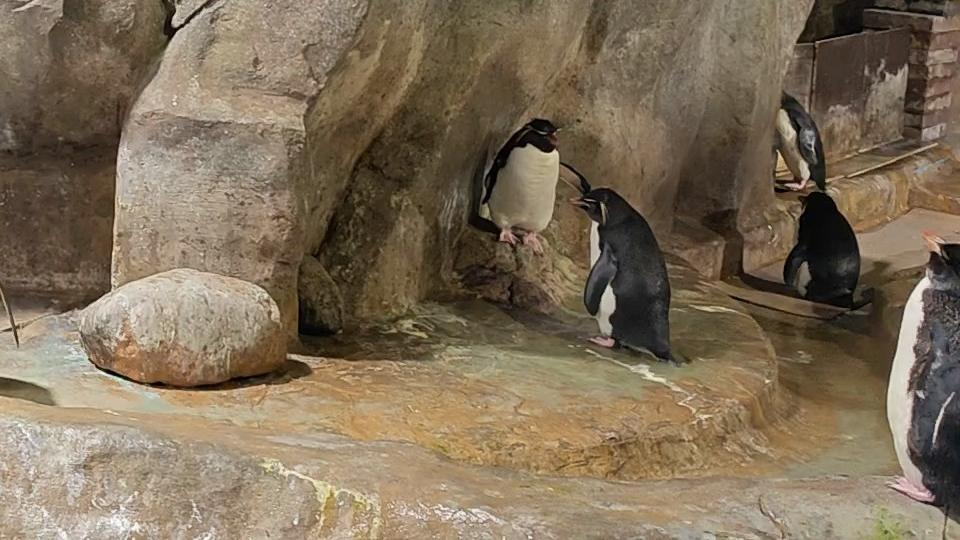Southern Rockhopper Penguin: (564, 180, 688, 371), (888, 227, 960, 518), (477, 113, 595, 254), (777, 187, 866, 310), (770, 80, 832, 194)
